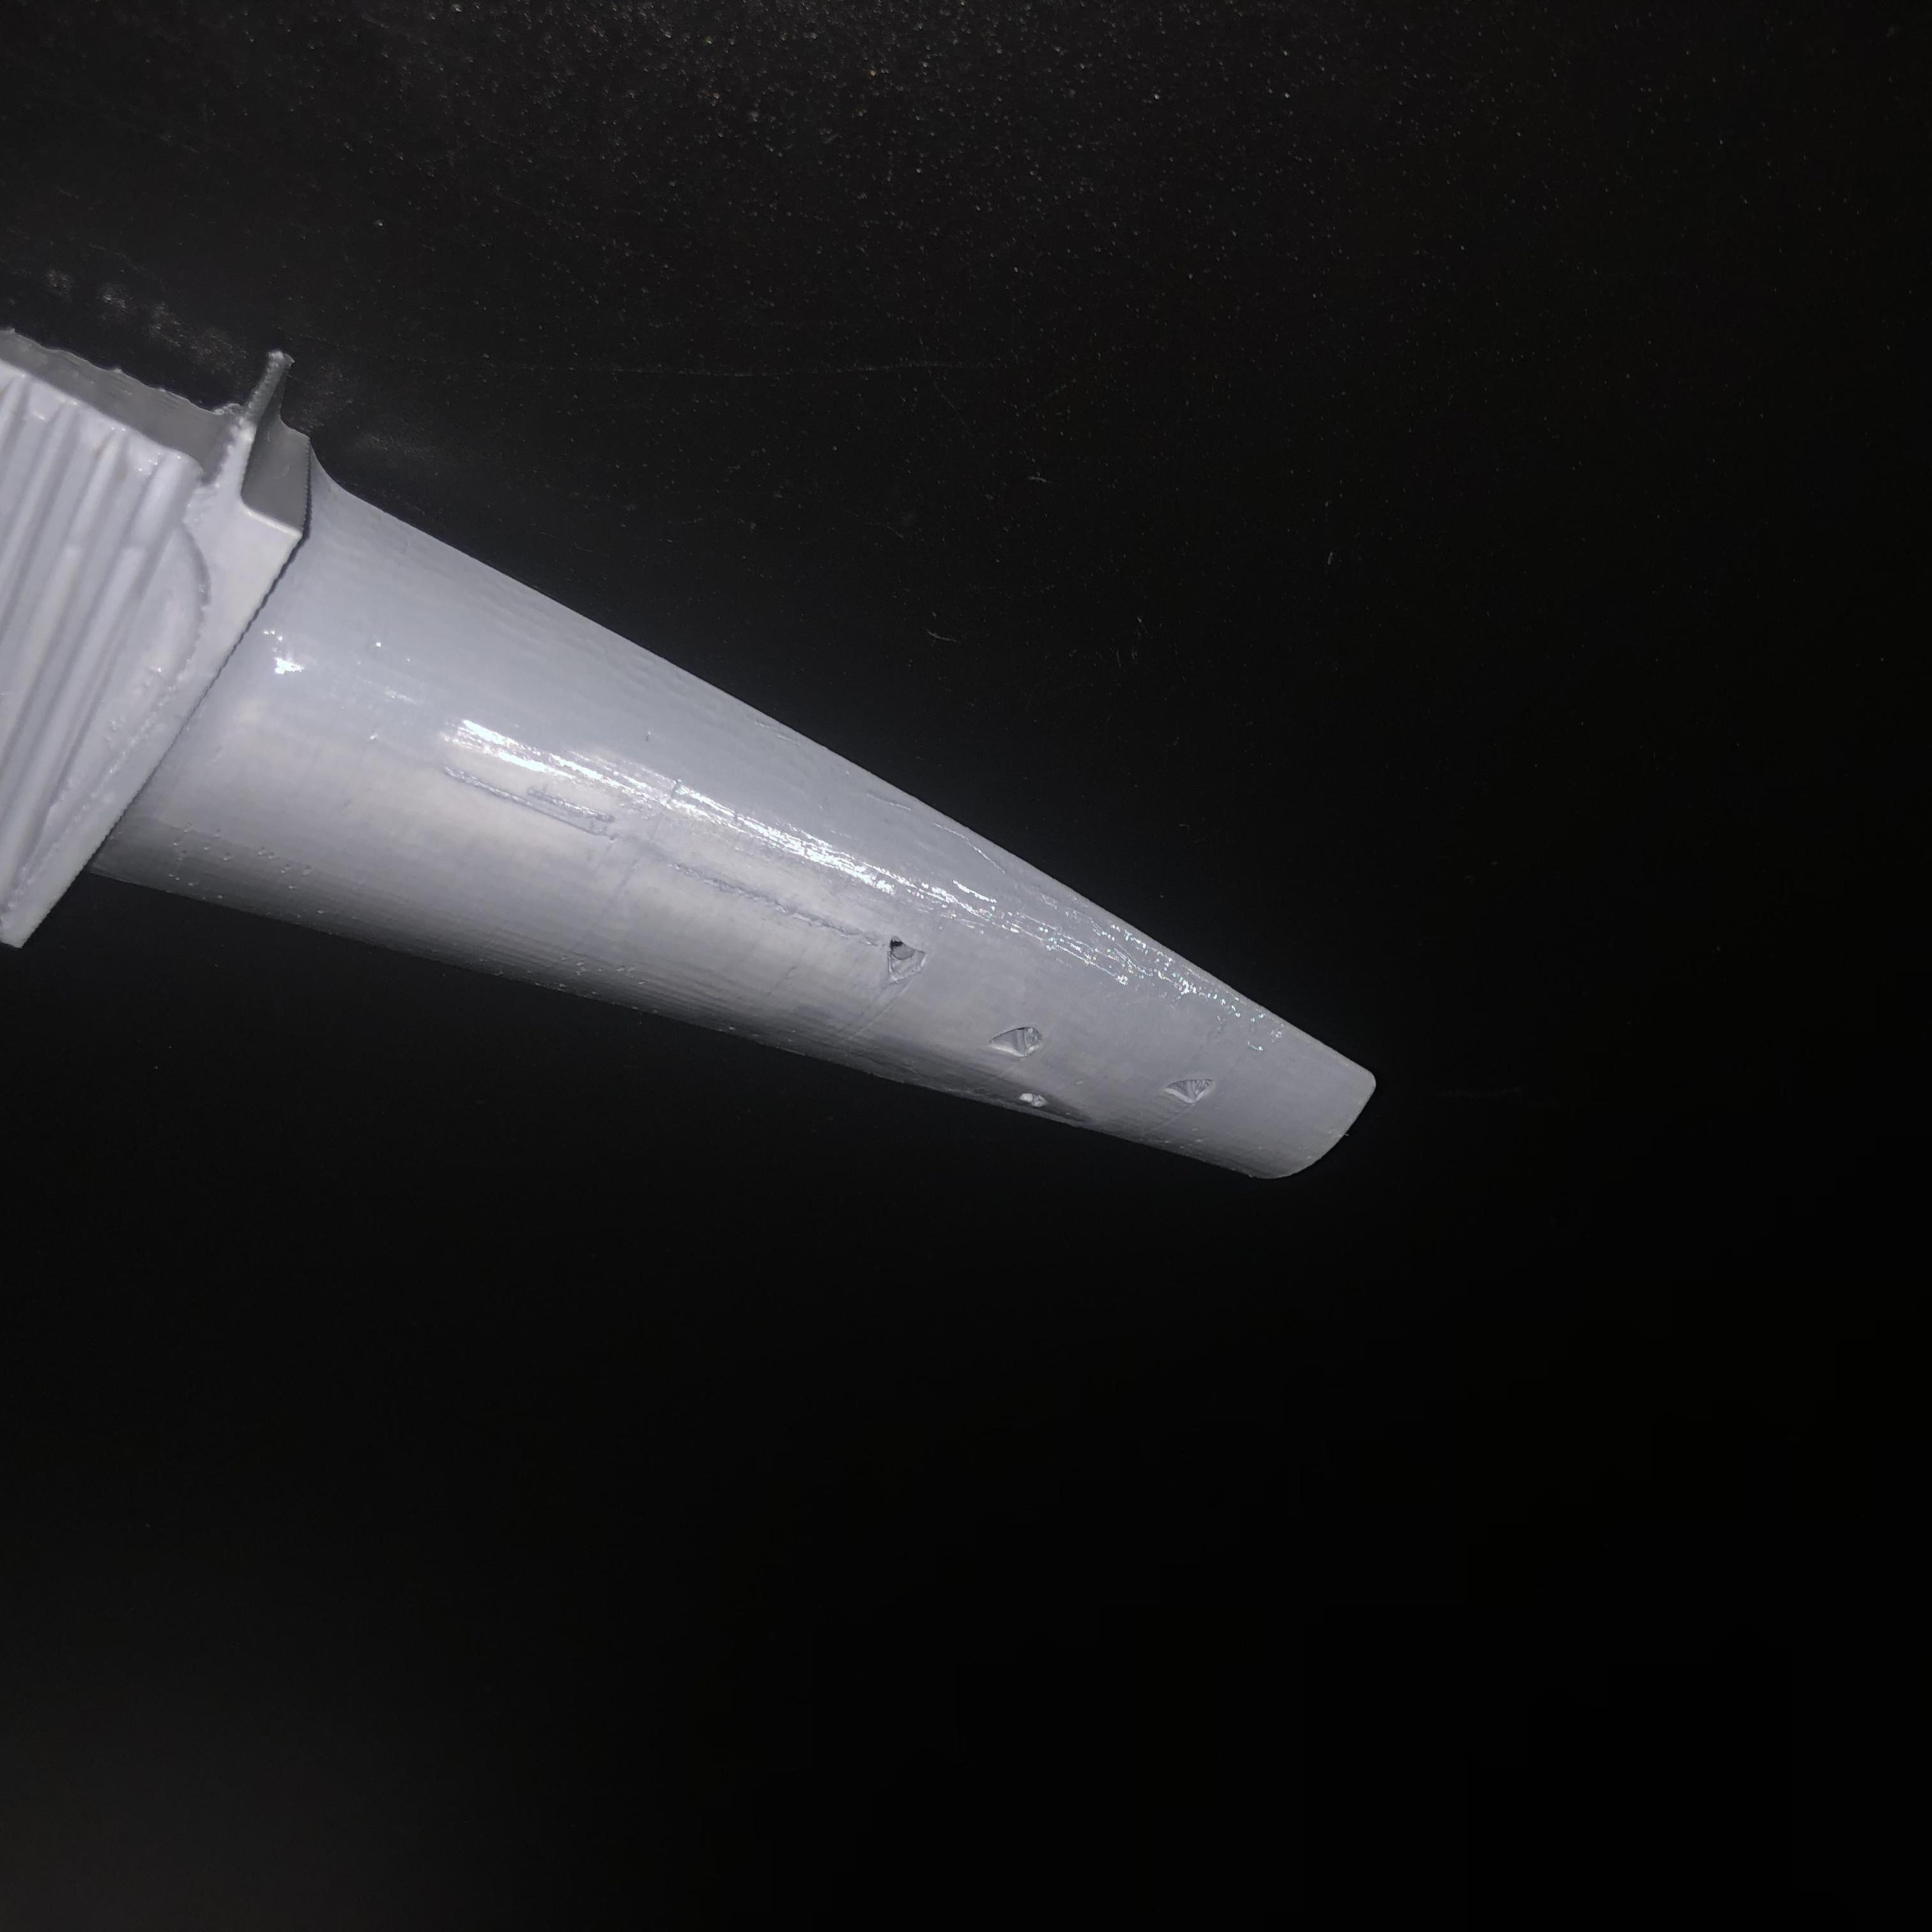breakdown: (872, 925, 1217, 1120)
